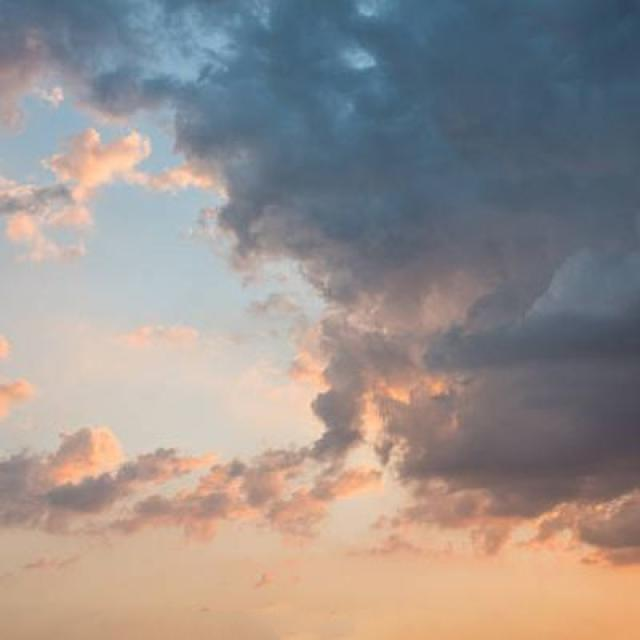Ns: (20, 14, 640, 558)
